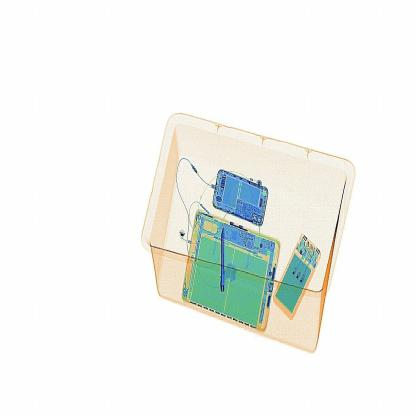pliers: (209, 221, 233, 300)
